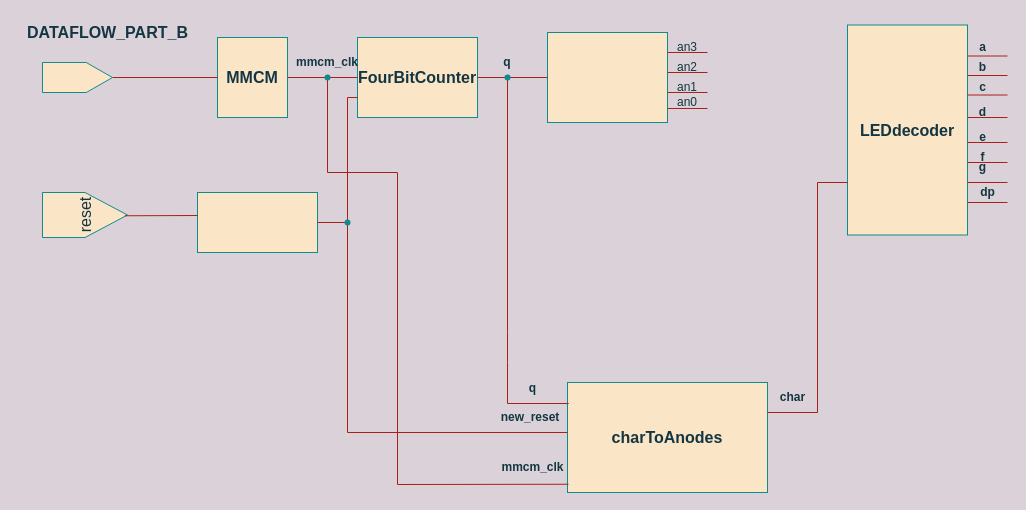
This 1026x510 diagram has some shape labels left out. The shapes that lost their labels are listed below. From the top down, each one's centre as x and y in pixels, then its label:
point (77, 77): clk
point (607, 77): AnodesDriver
point (257, 222): anti_bounce
